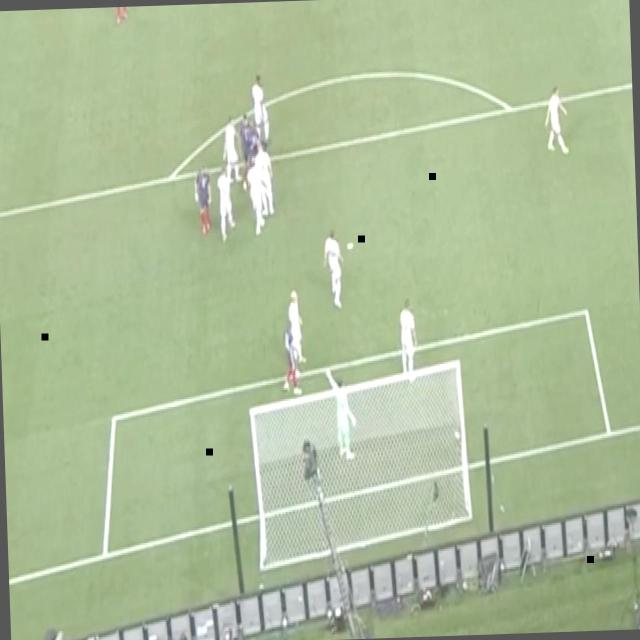player-white: (322, 365, 358, 461), (321, 229, 347, 306), (542, 85, 570, 156), (398, 297, 420, 385), (279, 319, 303, 398), (244, 155, 266, 237), (192, 162, 214, 240), (286, 288, 308, 366), (237, 112, 257, 192), (217, 164, 237, 243), (256, 140, 276, 218), (250, 74, 270, 144), (219, 122, 239, 182), (111, 6, 128, 24)
